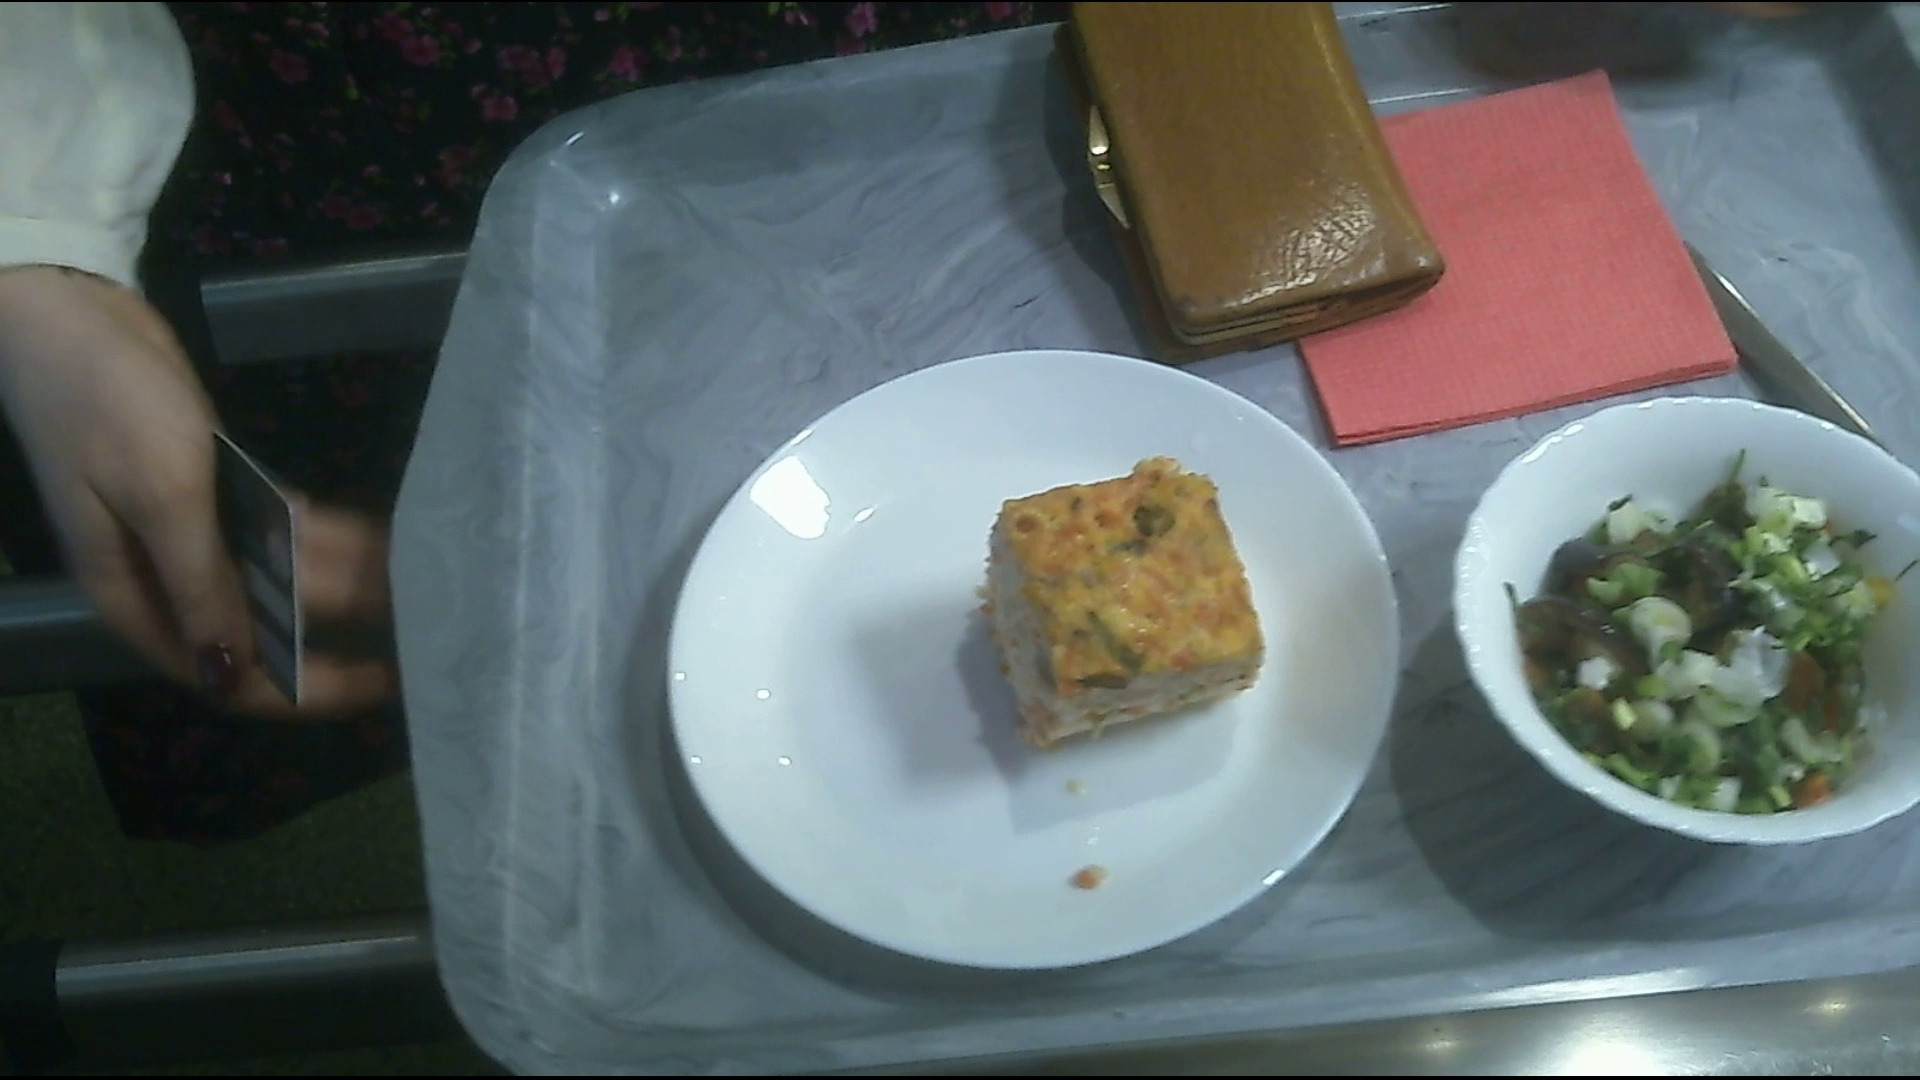bowl: (1465, 396, 1920, 841)
other: (1052, 5, 1439, 345)
plate: (662, 355, 1399, 971)
